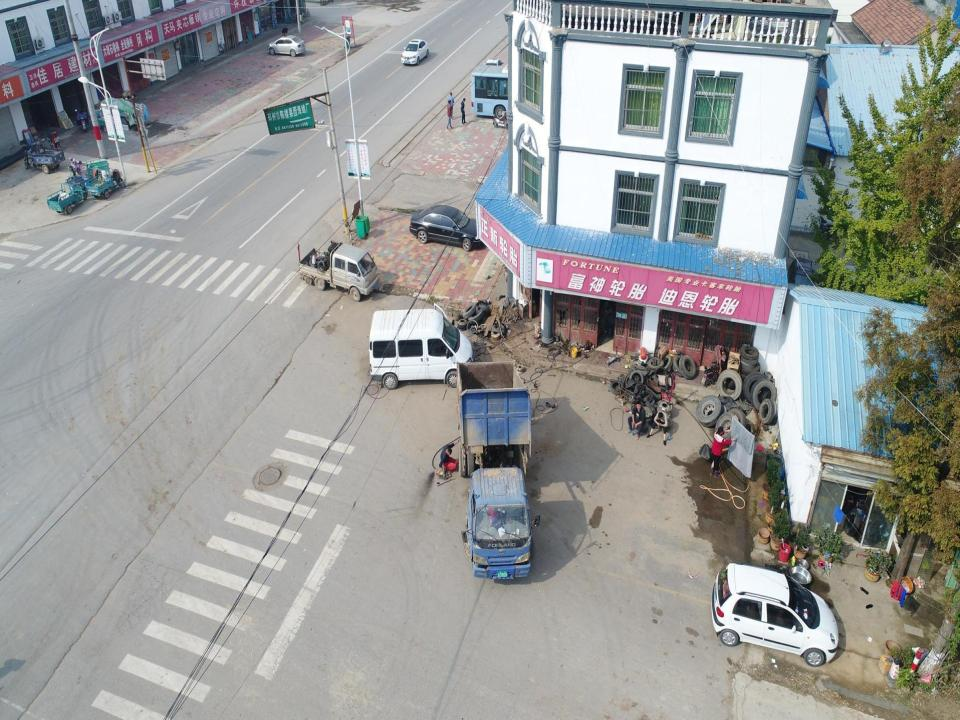bus: (470, 68, 554, 118)
car: (710, 561, 846, 664), (406, 204, 487, 252), (267, 36, 304, 56), (401, 39, 429, 65), (484, 58, 504, 78)
truck: (455, 361, 536, 585), (299, 241, 379, 301)
van: (368, 304, 473, 391)
